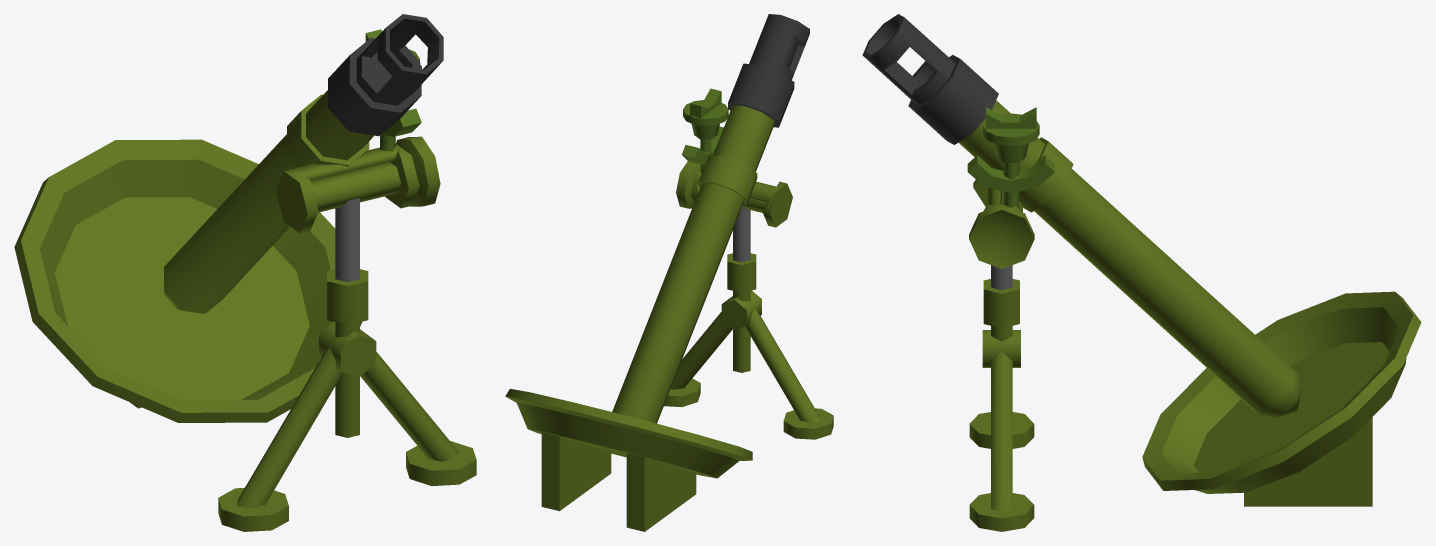
File: mortar_001.glb
3 renders of one model, left to right at view 1: azimuth 30°, elevation 25°; view 2: azimuth 150°, elevation 25°; view 3: azimuth 270°, elevation 25°, orthographic. The views are drawn at different scales.
Visible parts, largest first — view 1: mortar_001; view 2: mortar_001; view 3: mortar_001.
Part boxes in pixels (x1,y1,x2,y2): mortar_001: [14, 14, 476, 531]; mortar_001: [505, 14, 833, 531]; mortar_001: [862, 14, 1421, 531].
Size of the model in its own units: 0.7047 by 1.12 by 1.23.
1 material, 1 textured.
